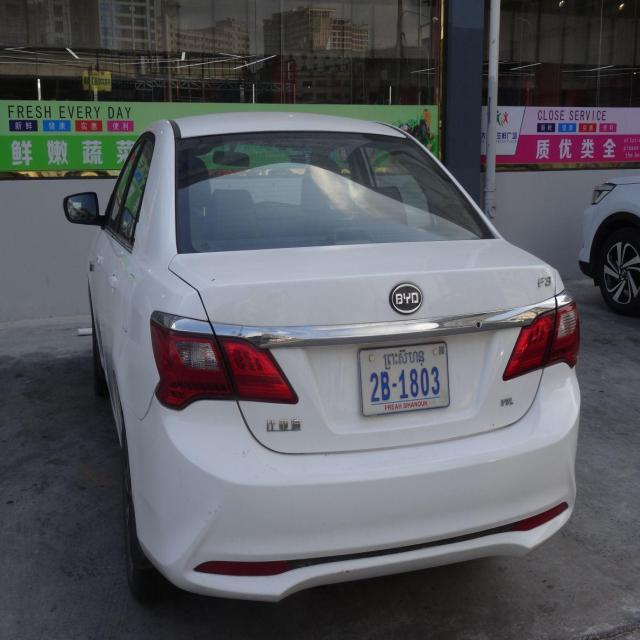Preah_Sihanouk: (382, 346, 430, 372)
